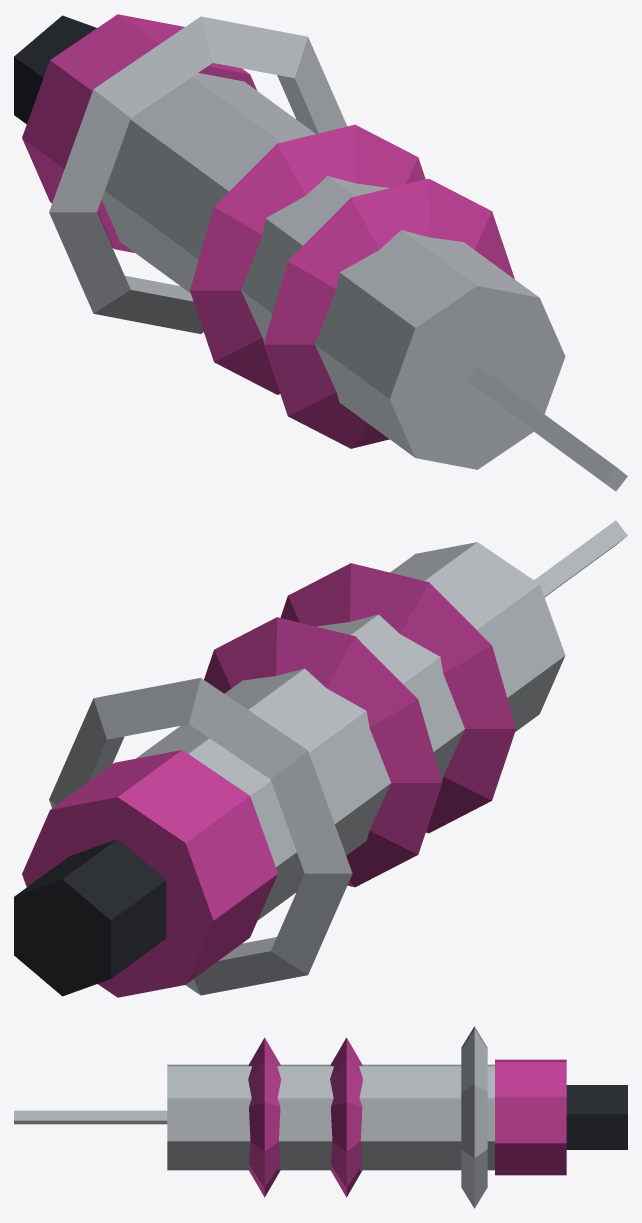
Rendered from stim-charisma.glb.
3 views of the same model, one above another, from view 1: azimuth 30°, elevation 25°; view 2: azimuth 150°, elevation 25°; view 3: azimuth 270°, elevation 25° (orthographic). The views are drawn at different scales.
Visible parts, largest first — view 1: m; view 2: m; view 3: m.
Part boxes in pixels (<box>): m: <box>14,14,627,491</box>; m: <box>14,520,627,997</box>; m: <box>14,1026,627,1208</box>.
Bounding box in the file's own units: 0.0283 × 0.0283 × 0.0893.
